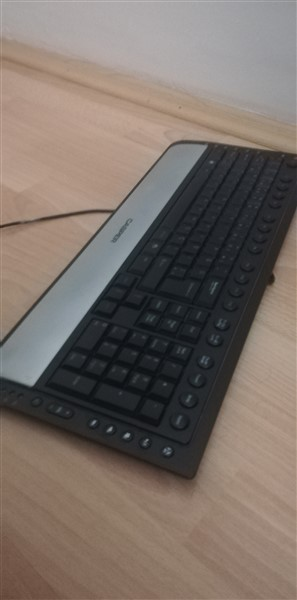klavye: (4, 133, 297, 485)
